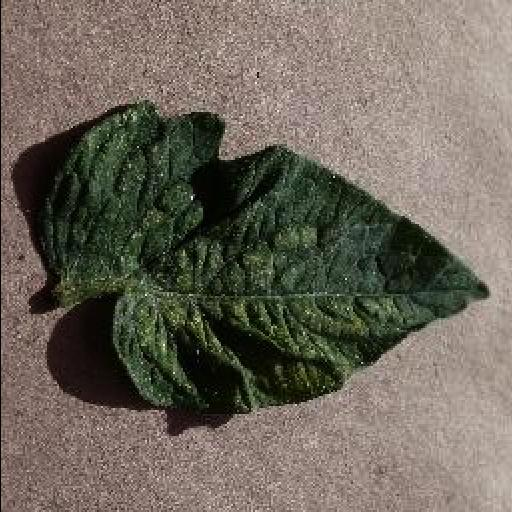disease_tomato: (34, 98, 490, 416)
